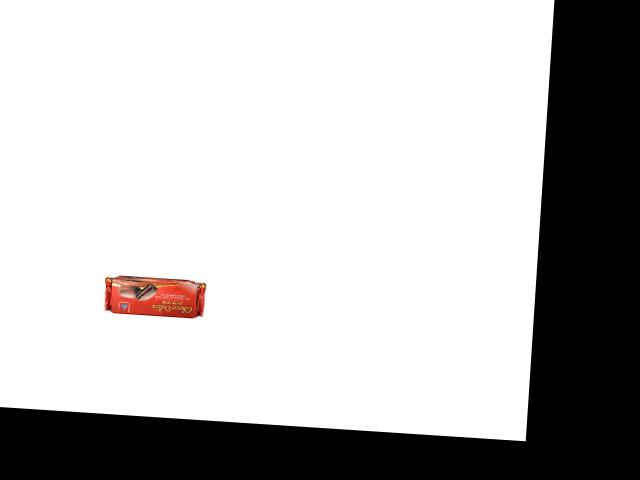chocolate: (101, 265, 208, 319)
